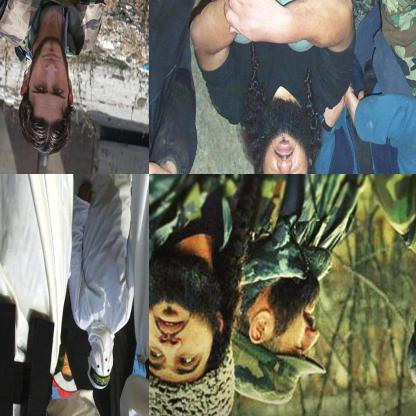rifle: (19, 0, 148, 51)
